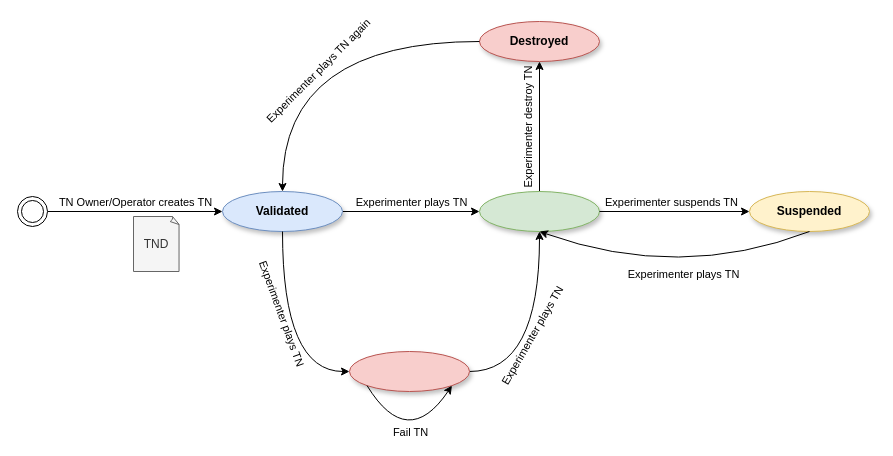
Some shapes in this 893 by 456 pixel diagram are drawn without their labels. Each missing label, with the centre of its shape:
Activated: pixel 540 212
Failed: pixel 410 372
